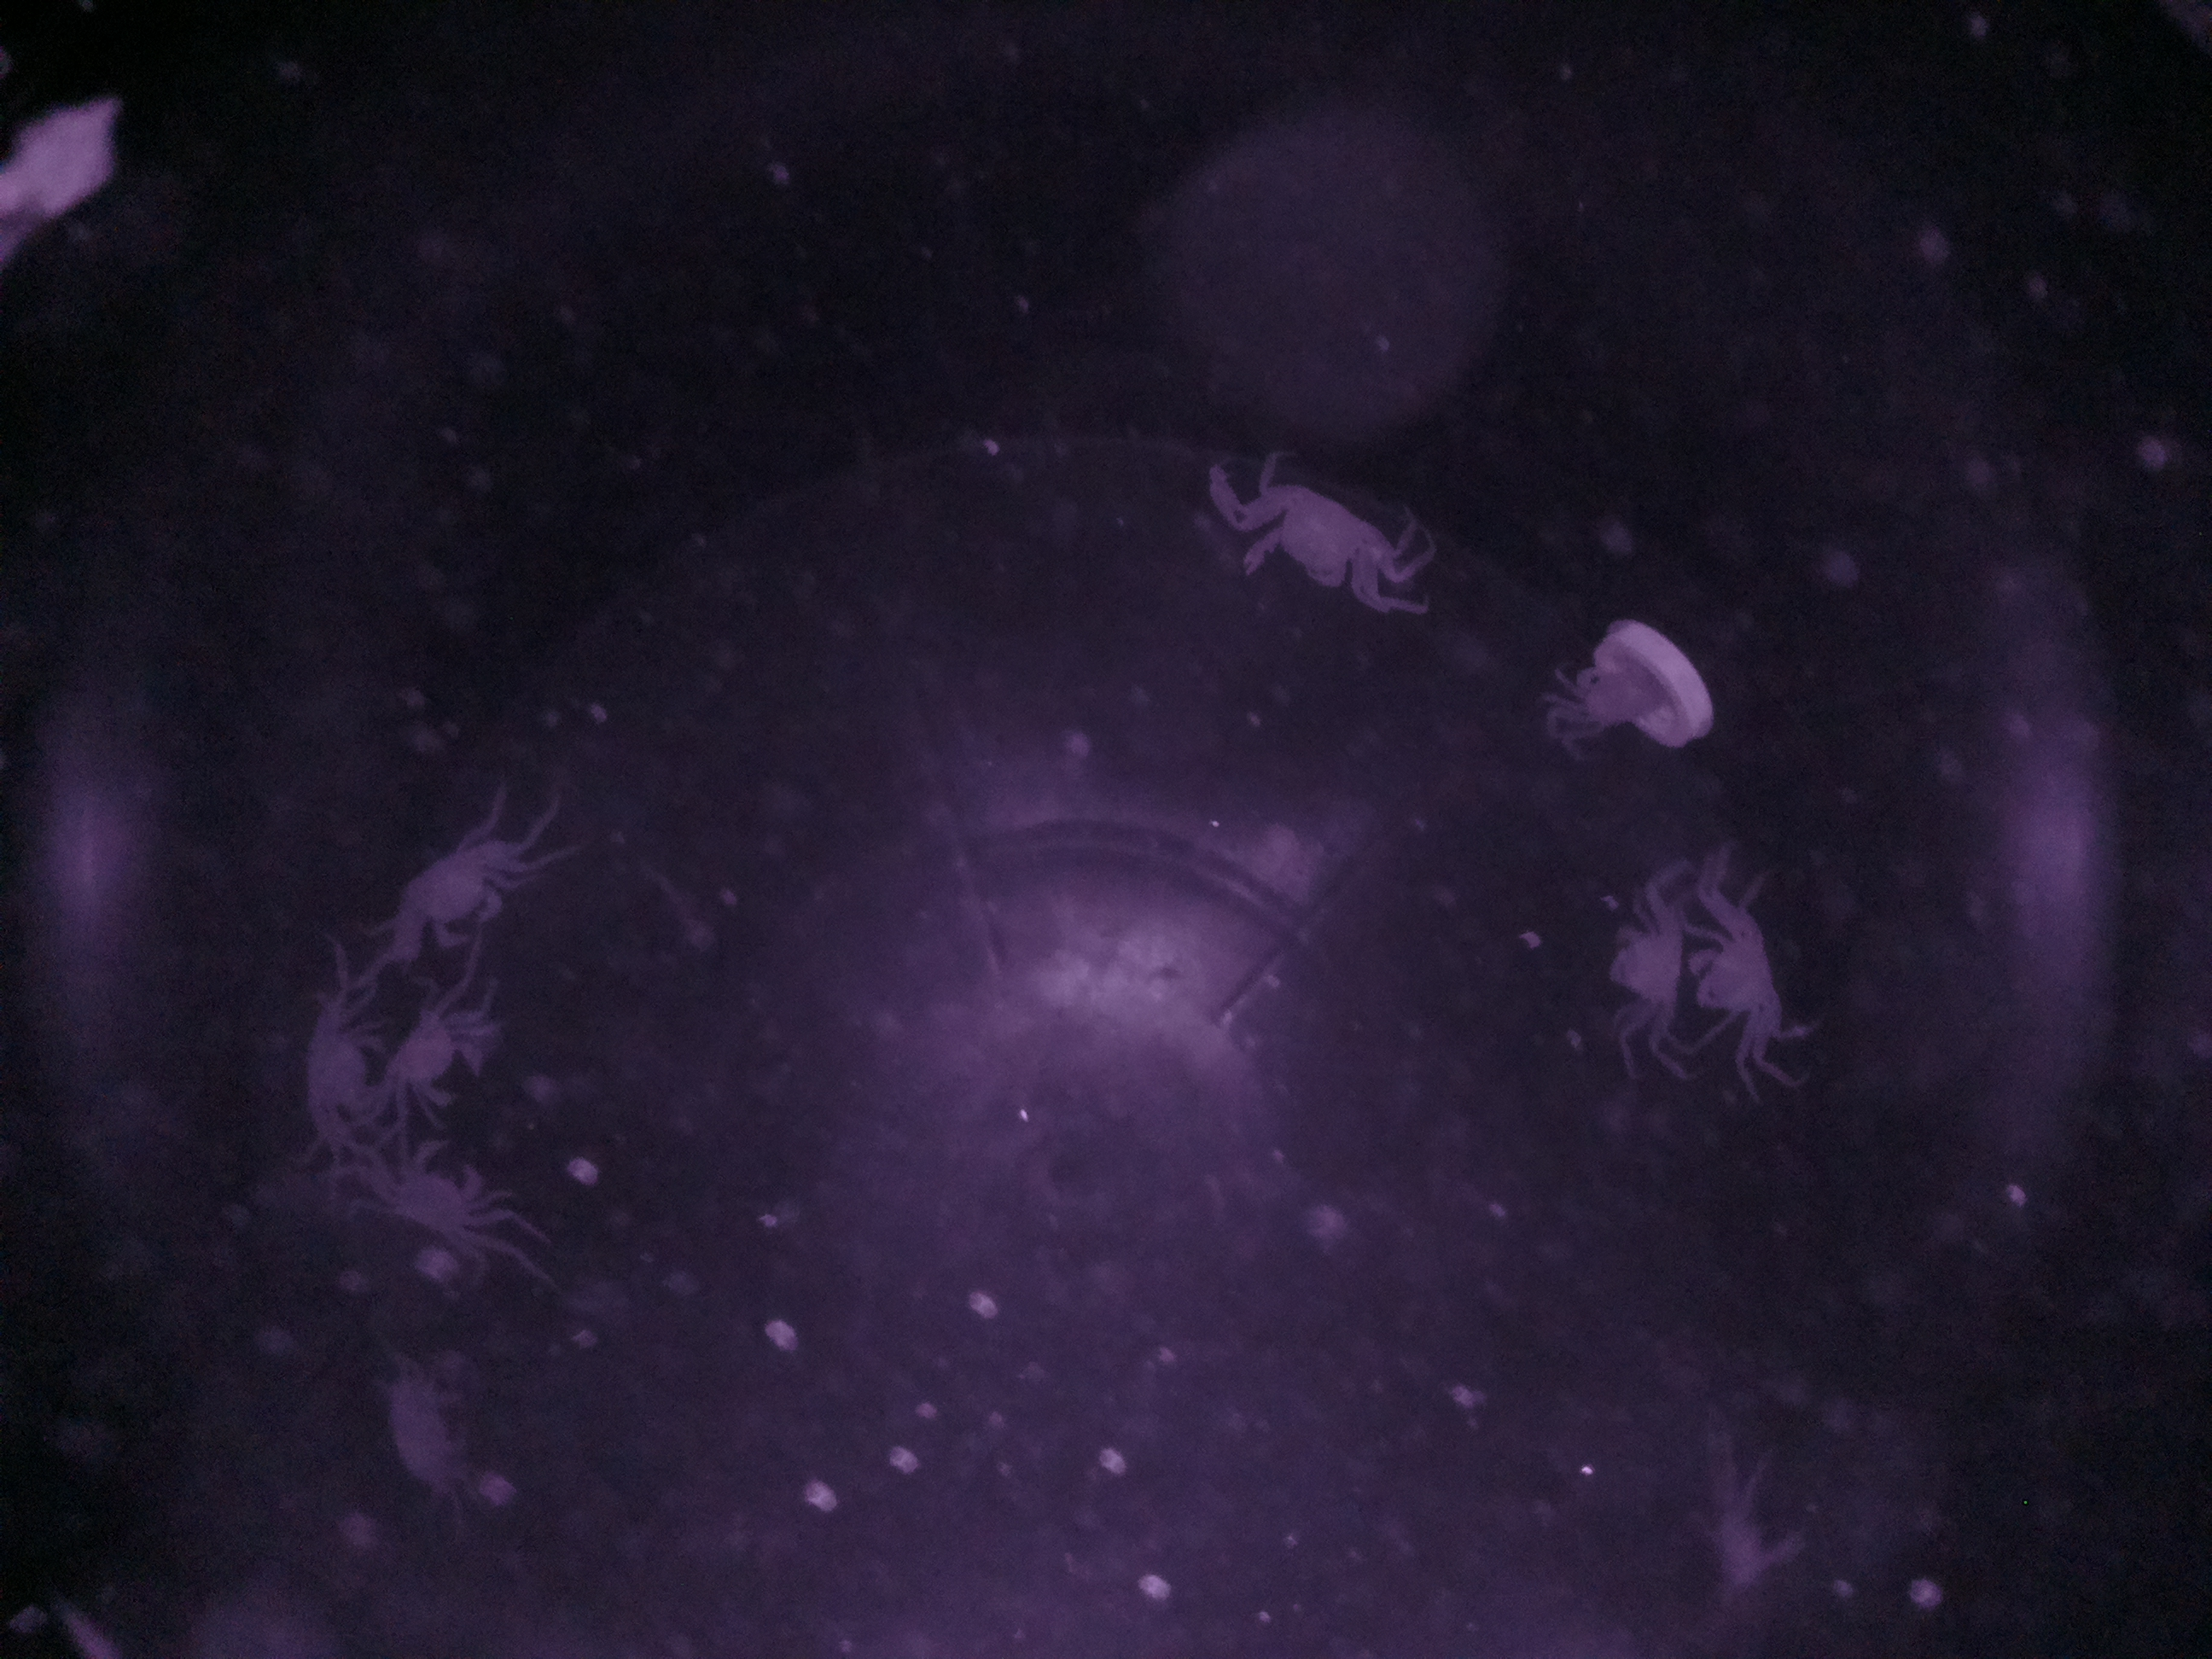Crab: (1214, 448, 1407, 627), (359, 795, 538, 974), (357, 1121, 540, 1291), (1686, 877, 1810, 1105), (1566, 877, 1686, 1100)
